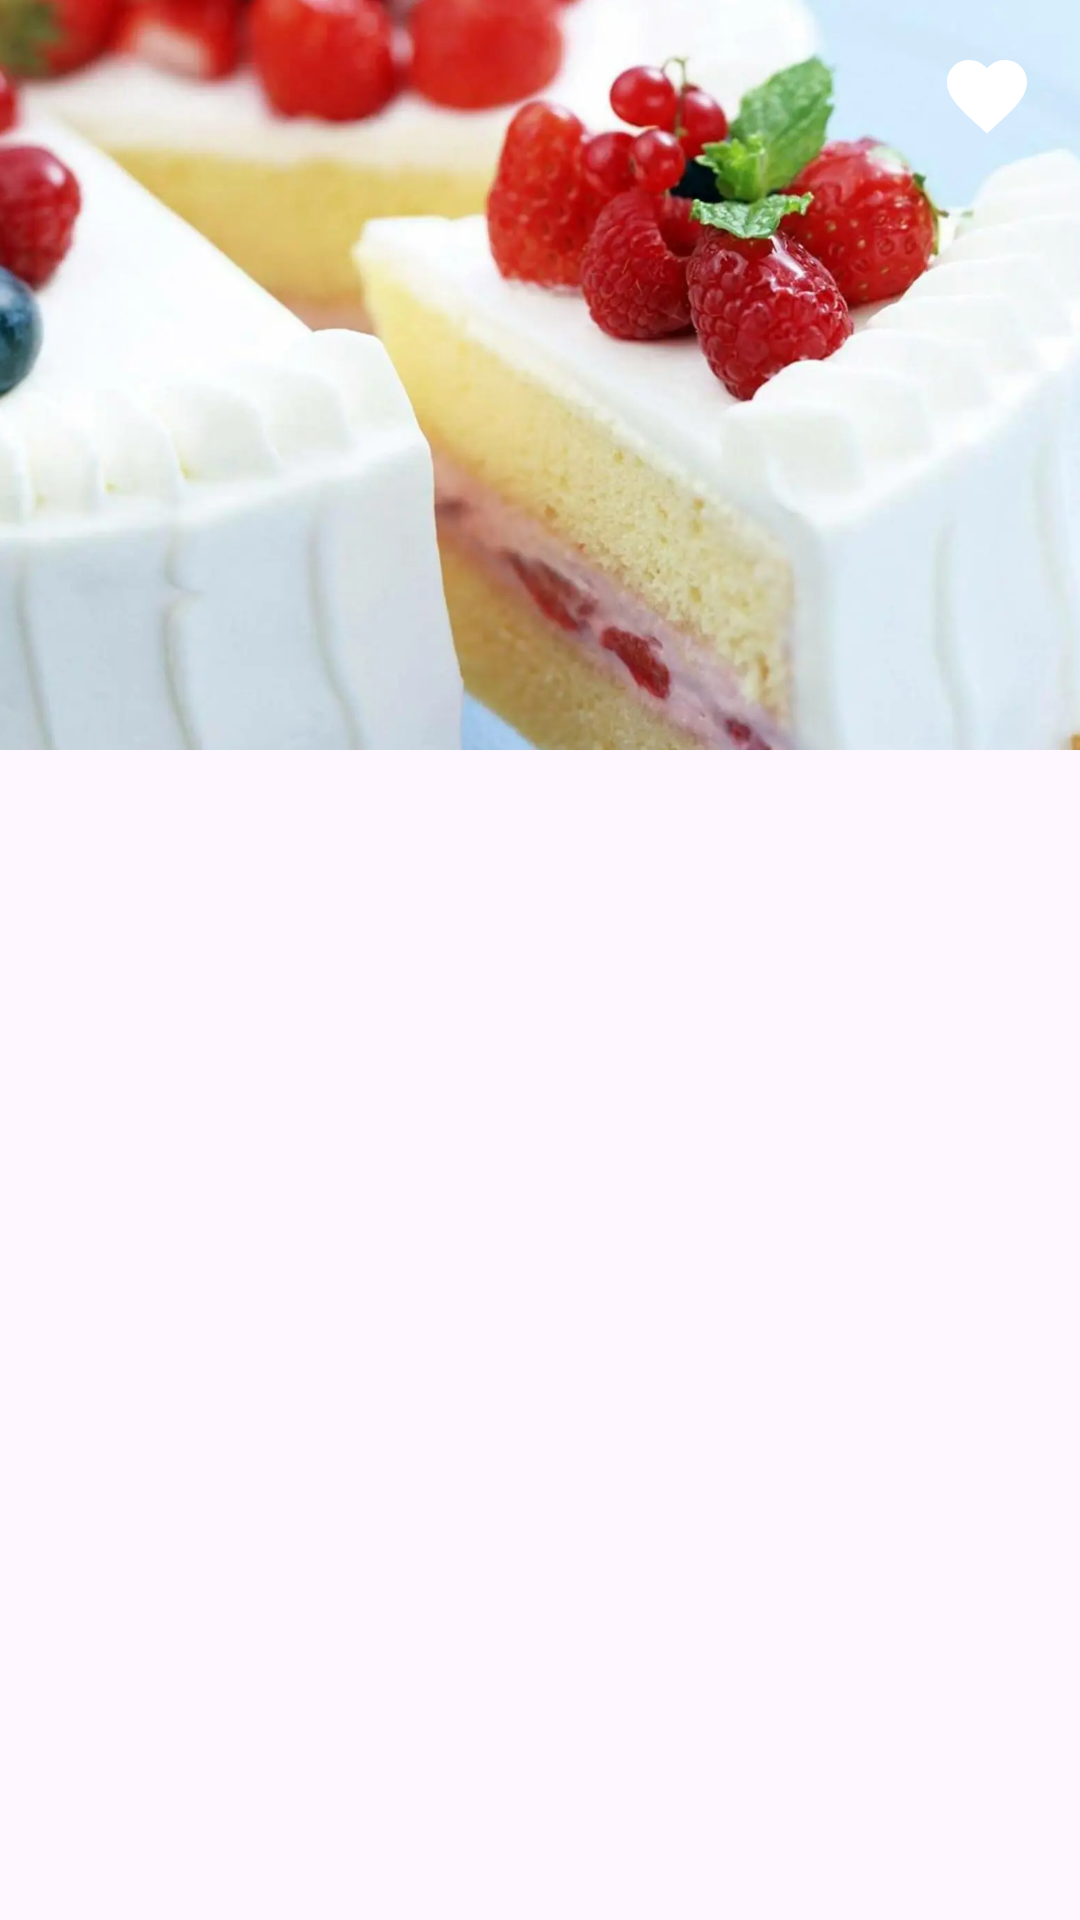

Point at icon controls on the screen. Image size 1080 x 1920, points as [x,y].
heart states: [987,96]
